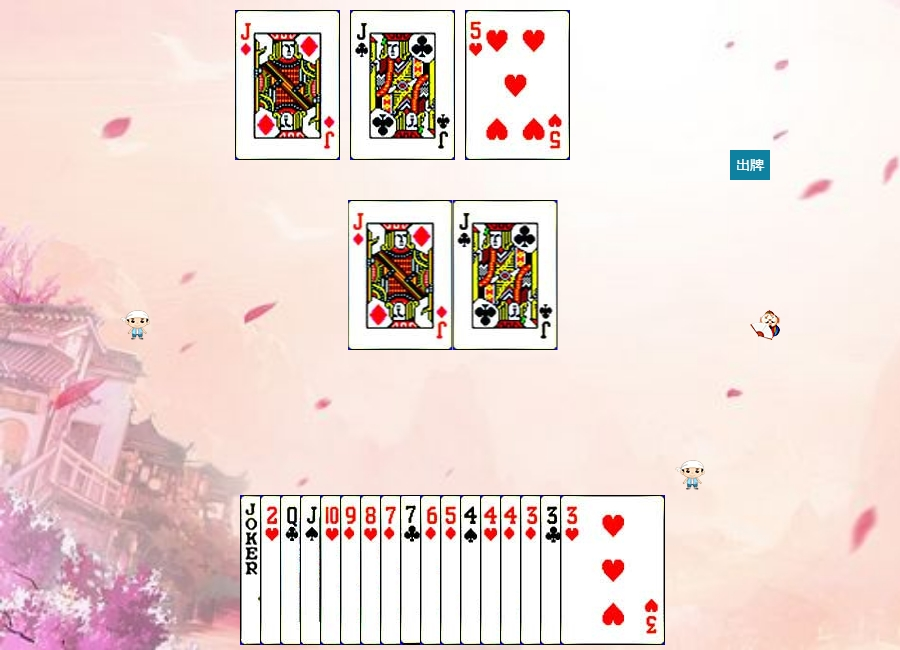10~3: (320, 495, 425, 645)
11~1: (235, 10, 340, 160), (348, 200, 453, 350)
11~2: (350, 10, 455, 160), (453, 200, 558, 350)
11~4: (300, 495, 405, 645)
12~2: (280, 495, 385, 645)
15~3: (260, 495, 365, 645)
17~3: (240, 495, 345, 645)
3~1: (520, 495, 625, 645)
3~2: (540, 495, 645, 645)
3~3: (560, 495, 665, 645)
4~1: (500, 495, 605, 645)
4~3: (480, 495, 585, 645)
4~4: (460, 495, 565, 645)
5~1: (440, 495, 545, 645)
5~3: (465, 10, 570, 160)
6~1: (420, 495, 525, 645)
7~1: (380, 495, 485, 645)
7~2: (400, 495, 505, 645)
8~3: (360, 495, 465, 645)
9~1: (340, 495, 445, 645)
